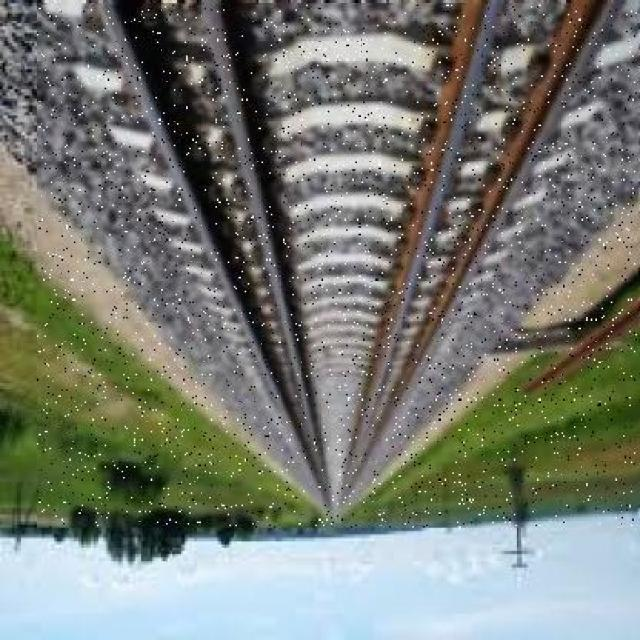rail: (38, 6, 638, 528)
